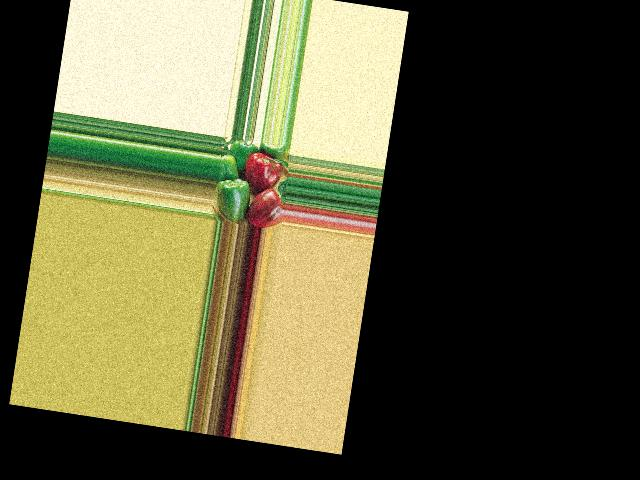bell_pepper: (247, 186, 285, 230)
